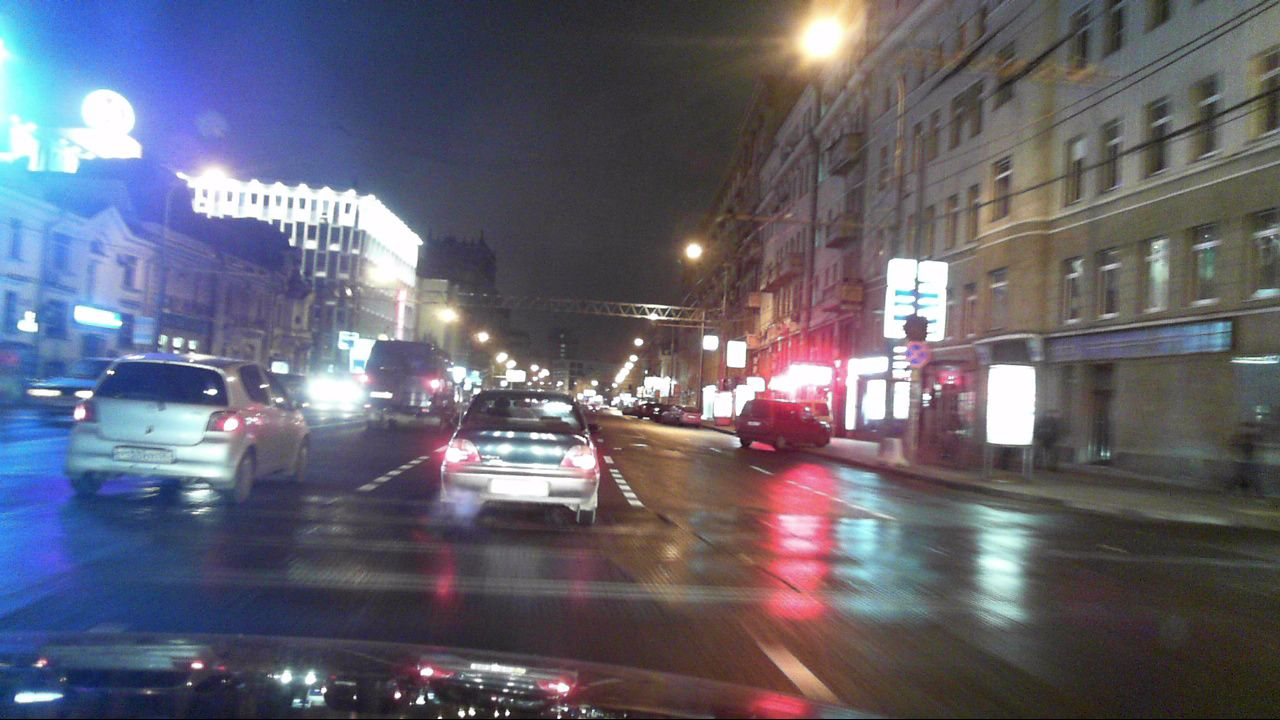No Parking: (904, 340, 930, 368)
